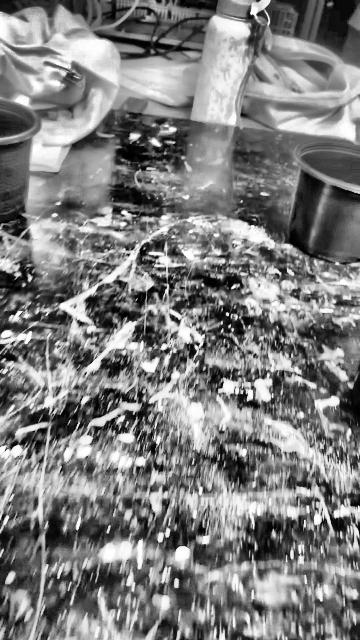pot: (289, 141, 359, 263), (0, 99, 39, 223)
